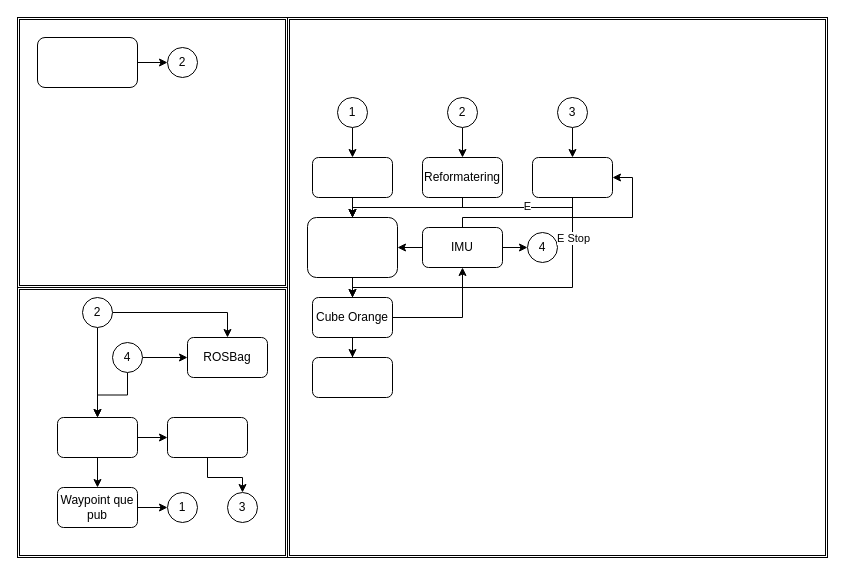
The diagram is 845 pixels wide and 575 high, and some of its shapes have lost their labels. The box of each missing label's shape, as (x1, y1, x2, y2) in pixels:
ControlSystem - PID - MMA: (306, 216, 398, 278)
GUI: (56, 416, 138, 458)
Motors: (312, 356, 392, 398)
Pos[1]: (312, 156, 392, 198)
PosPub: (36, 36, 138, 88)
Safety: (166, 416, 248, 458)
Safety Control: (532, 156, 612, 198)
